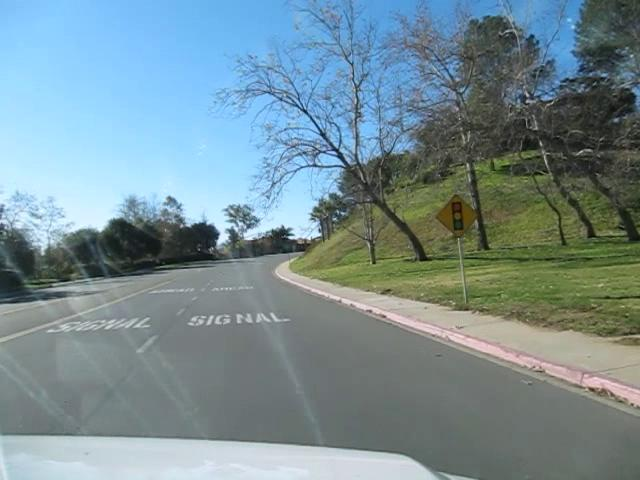signalAhead: (434, 192, 479, 239)
